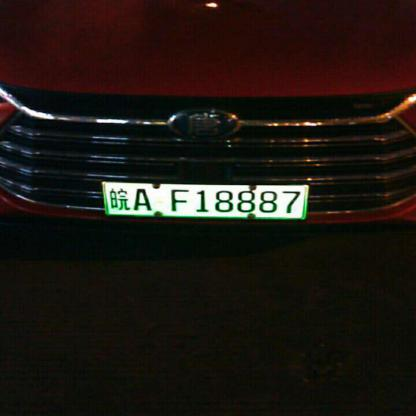lp: (103, 182, 304, 217)
